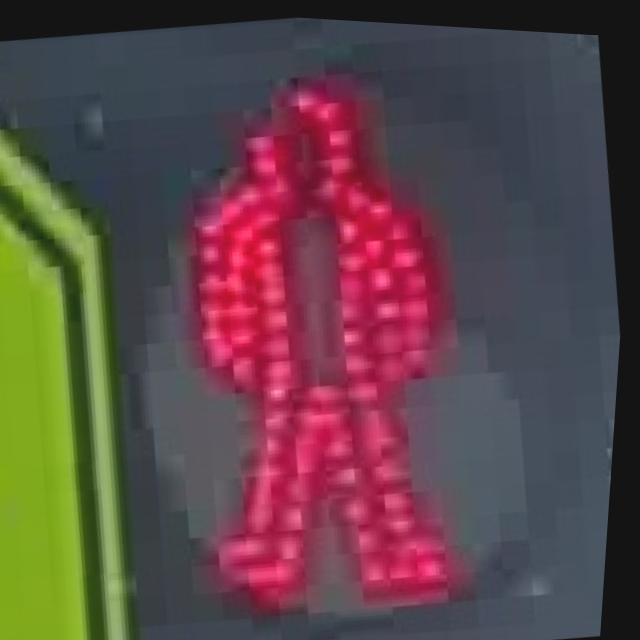red_light: (142, 30, 541, 625)
